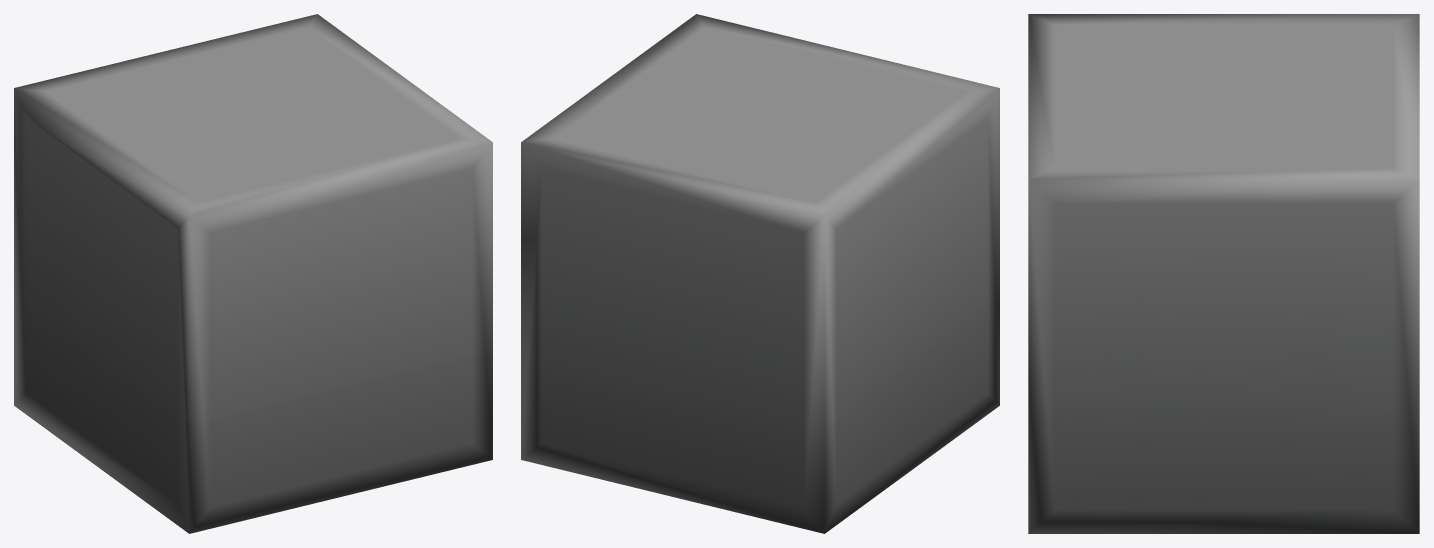
The model's file is TubulationBoxEng.fbx.
3 renders of one model, left to right at view 1: azimuth 30°, elevation 25°; view 2: azimuth 150°, elevation 25°; view 3: azimuth 270°, elevation 25°, orthographic. The views are drawn at different scales.
Parts seen in each view (by area): view 1: TubulationBoxEng; view 2: TubulationBoxEng; view 3: TubulationBoxEng.
Part boxes in pixels (x1,y1,x2,y2): TubulationBoxEng: (14, 14, 492, 533); TubulationBoxEng: (521, 14, 999, 533); TubulationBoxEng: (1028, 14, 1419, 533).
Bounding box in the file's own units: 60 × 60 × 60.
Materials: 1 (1 with a texture image).
